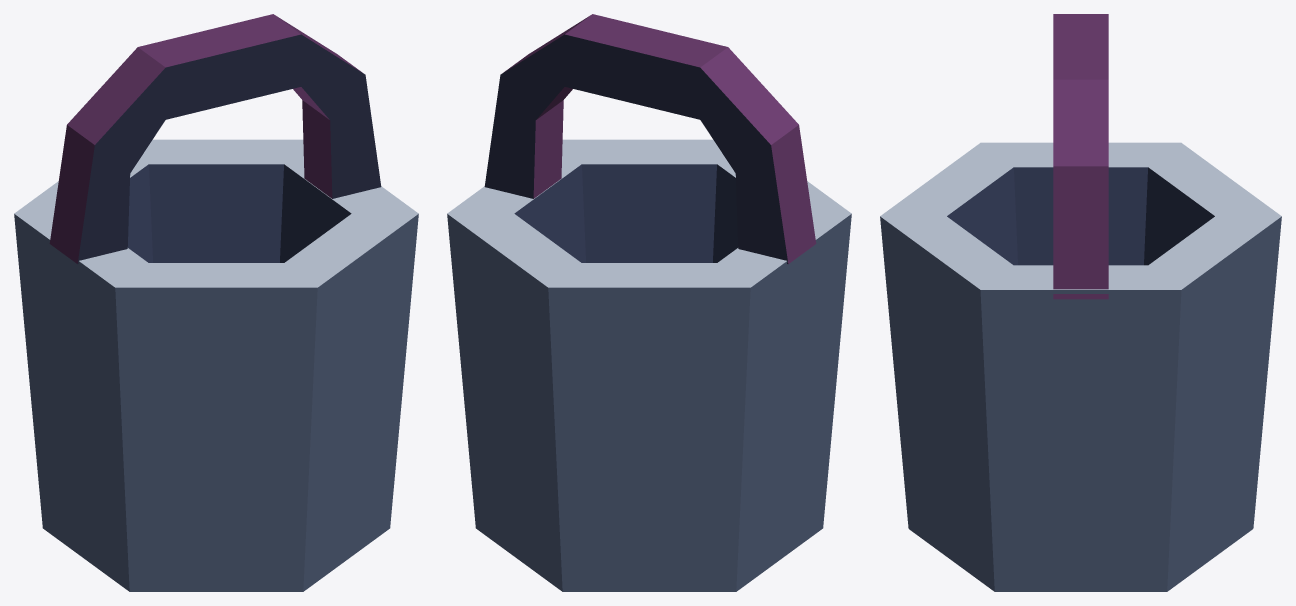
File: bucket.glb
3 renders of one model, left to right at view 1: azimuth 30°, elevation 25°; view 2: azimuth 150°, elevation 25°; view 3: azimuth 270°, elevation 25°, orthographic.
Parts seen in each view (by area): view 1: Bucket; view 2: Bucket; view 3: Bucket.
Boxes of the visible parts, x1=… form: Bucket: x1=14, y1=14, x2=418, y2=591; Bucket: x1=447, y1=14, x2=851, y2=591; Bucket: x1=880, y1=14, x2=1281, y2=591.
Size of the model in its own units: 0.4759 by 0.7261 by 0.547.
1 material, 1 textured.
